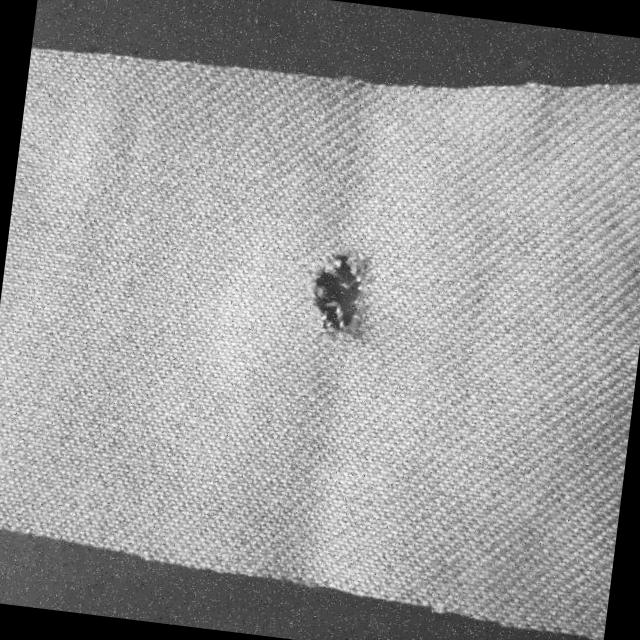hole: (300, 239, 380, 346)
